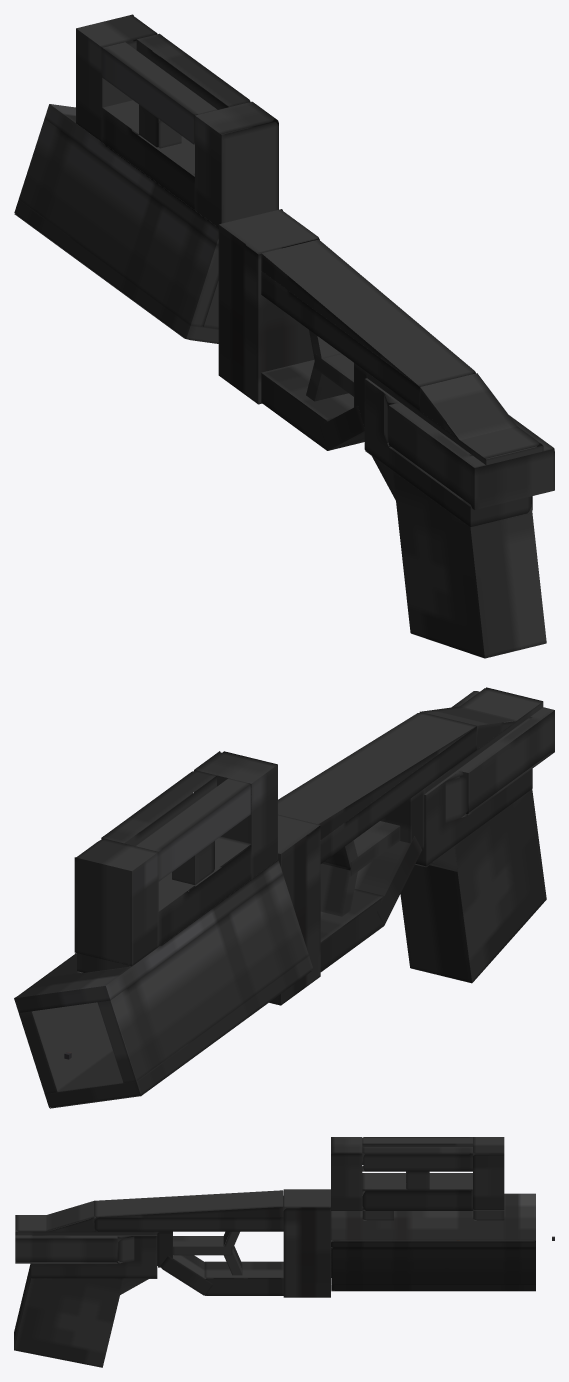
The picture shows the model from 3 angles, top to bottom: view 1: azimuth 30°, elevation 25°; view 2: azimuth 150°, elevation 25°; view 3: azimuth 270°, elevation 25°; orthographic projection. The views are drawn at different scales.
Visible parts, largest first — view 1: launcher_31; view 2: launcher_31; view 3: launcher_31.
Part boxes in pixels (<box>): launcher_31: <box>14,14,554,658</box>; launcher_31: <box>14,687,554,1108</box>; launcher_31: <box>14,1137,535,1367</box>.
Bounding box in the file's own units: 0.3458 × 0.9325 × 2.14.
